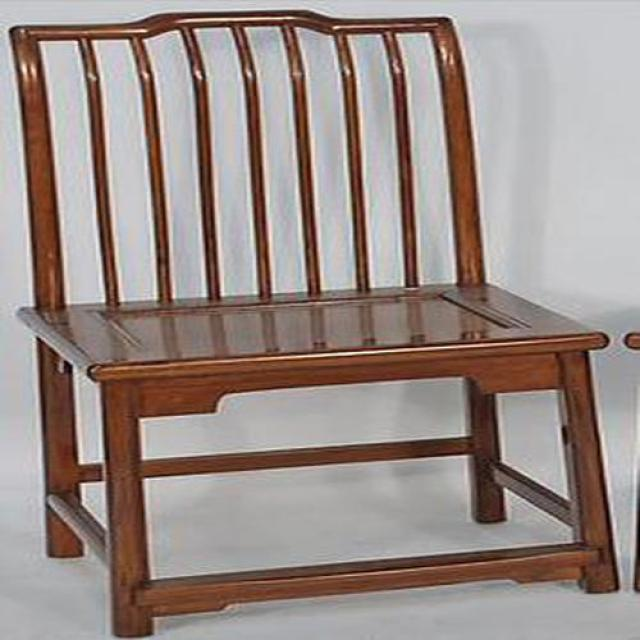chair: (8, 10, 621, 640)
